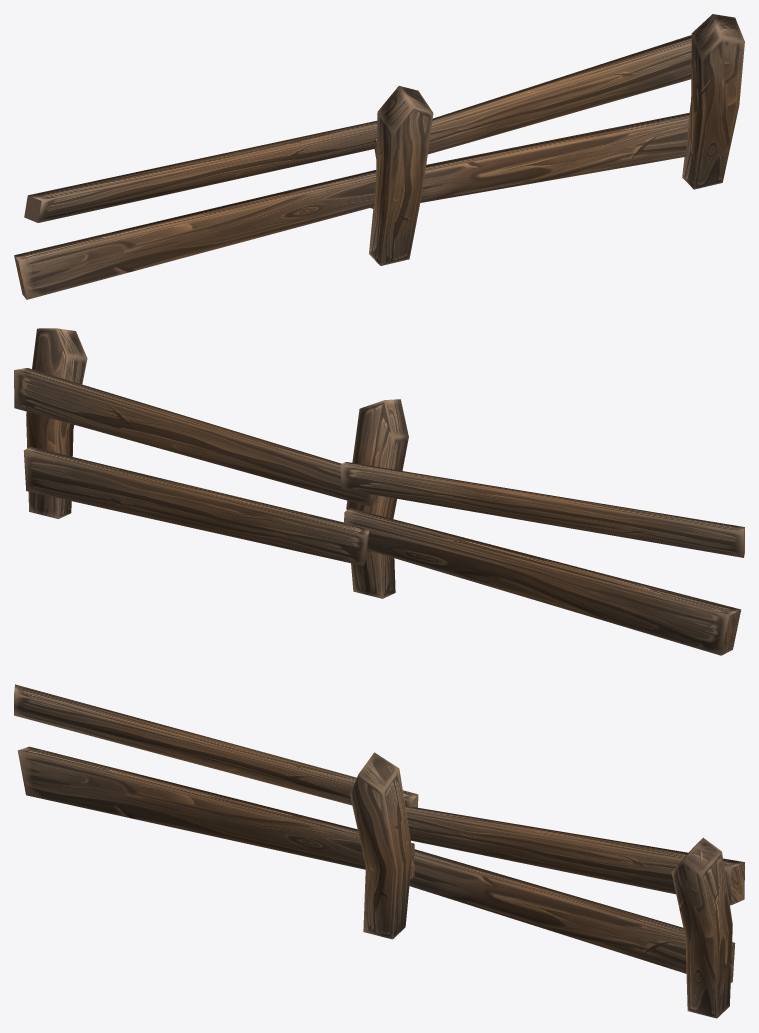
The model's file is fenceWoodMedB.fbx.
The picture shows the model from 3 angles, top to bottom: view 1: azimuth 30°, elevation 25°; view 2: azimuth 150°, elevation 25°; view 3: azimuth 330°, elevation 25°; orthographic projection. The views are drawn at different scales.
Parts seen in each view (by area): view 1: fenceWoodMedB; view 2: fenceWoodMedB; view 3: fenceWoodMedB.
Boxes of the visible parts, x1,y1,x2,y2 form: fenceWoodMedB: (14, 14, 744, 299); fenceWoodMedB: (14, 328, 744, 655); fenceWoodMedB: (14, 684, 744, 1018).
Bounding box in the file's own units: 567 × 139 × 59.58.
